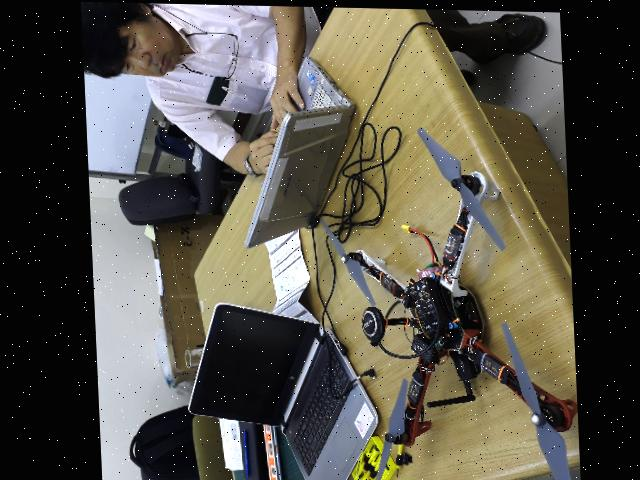drone: (308, 110, 577, 480)
